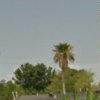Palm tree: (50, 32, 82, 99)
